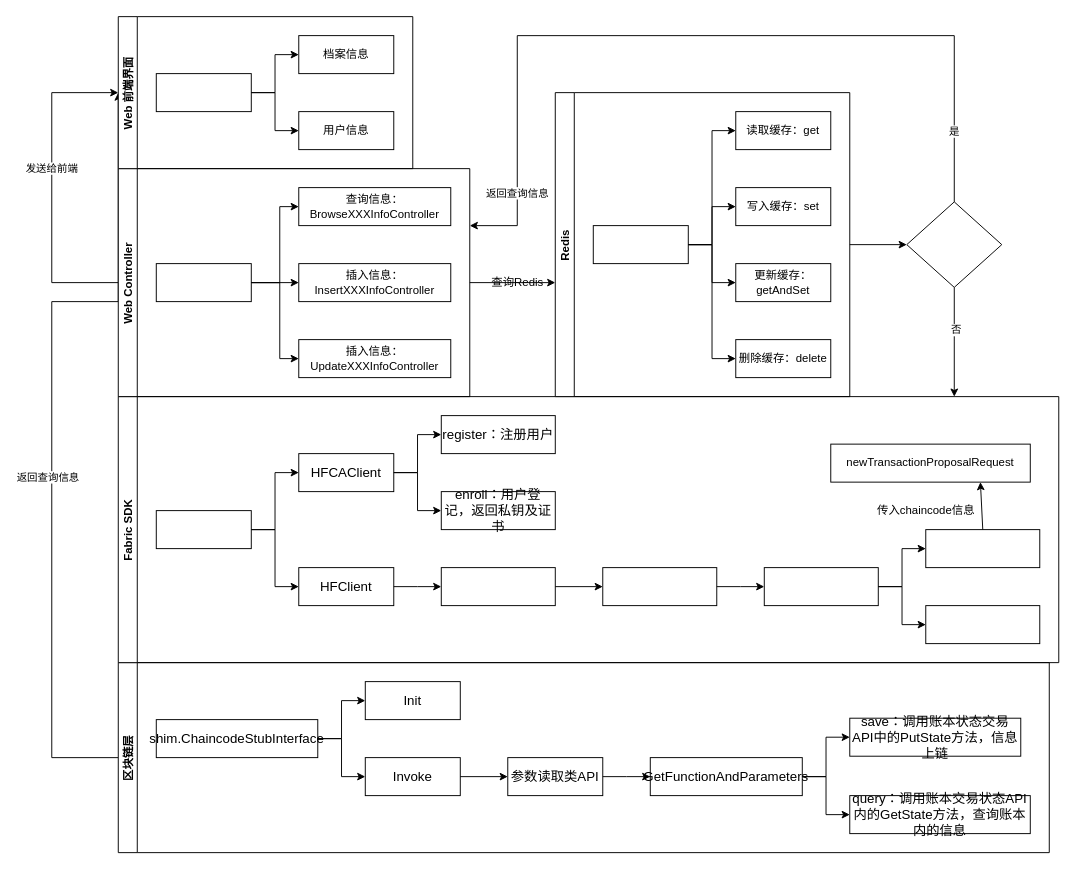
This 1075x869 diagram has some shape labels left out. Here are the shapes that lost their labels. From the top down, the centre of each, then its label:
[203,92]: web
[640,244]: RedisUtils
[954,244]: Redis内是否存在请求数据？
[203,282]: controller
[203,529]: 两个主类
[982,548]: invoke：调用合约
[497,586]: 创建实例
[659,586]: 创建通道实例
[820,586]: 安装合约
[982,624]: queryChaincode：查询合约
